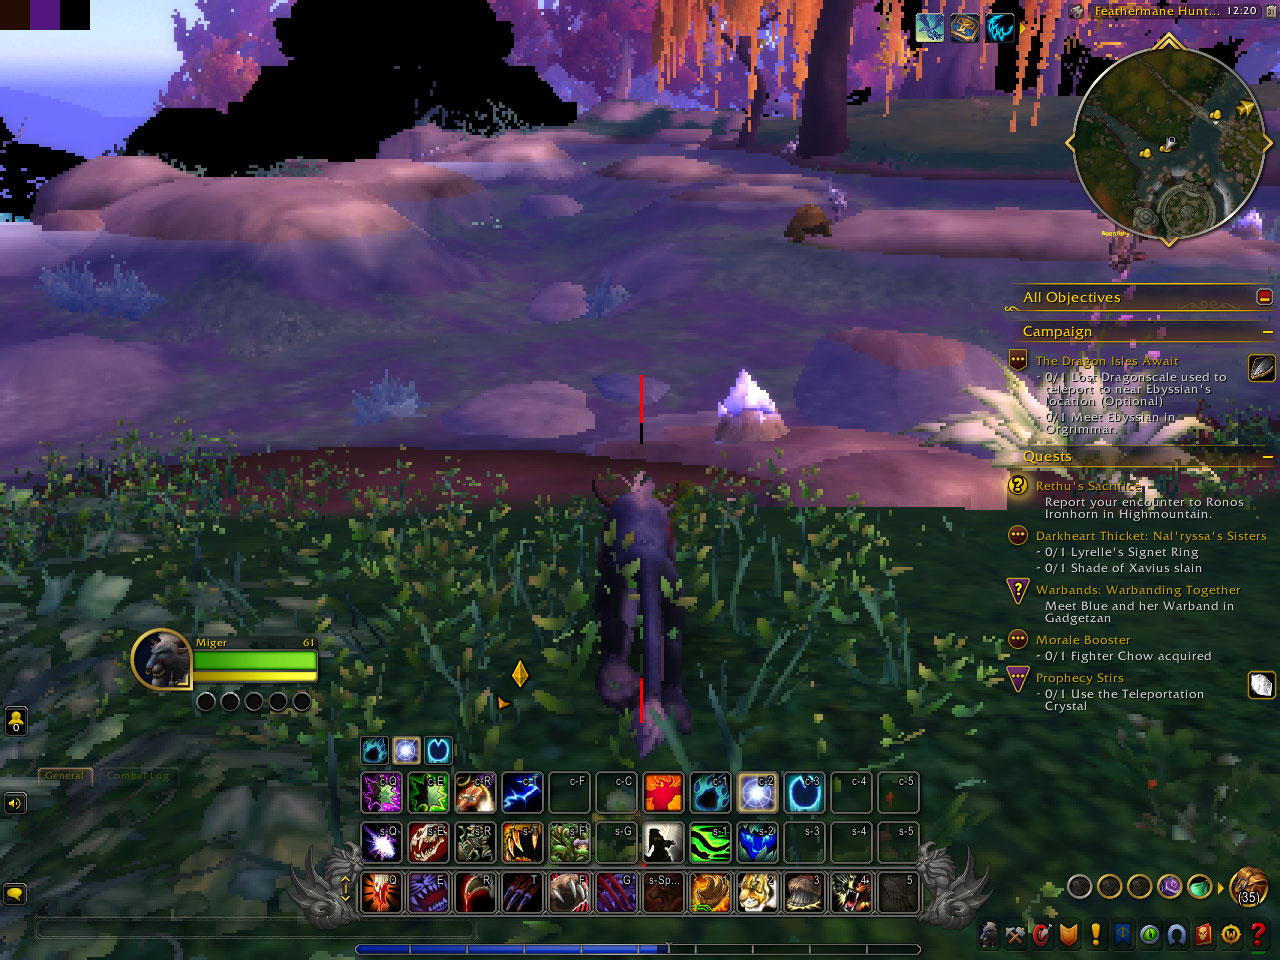ore: (714, 368, 788, 446), (1230, 210, 1268, 242)
